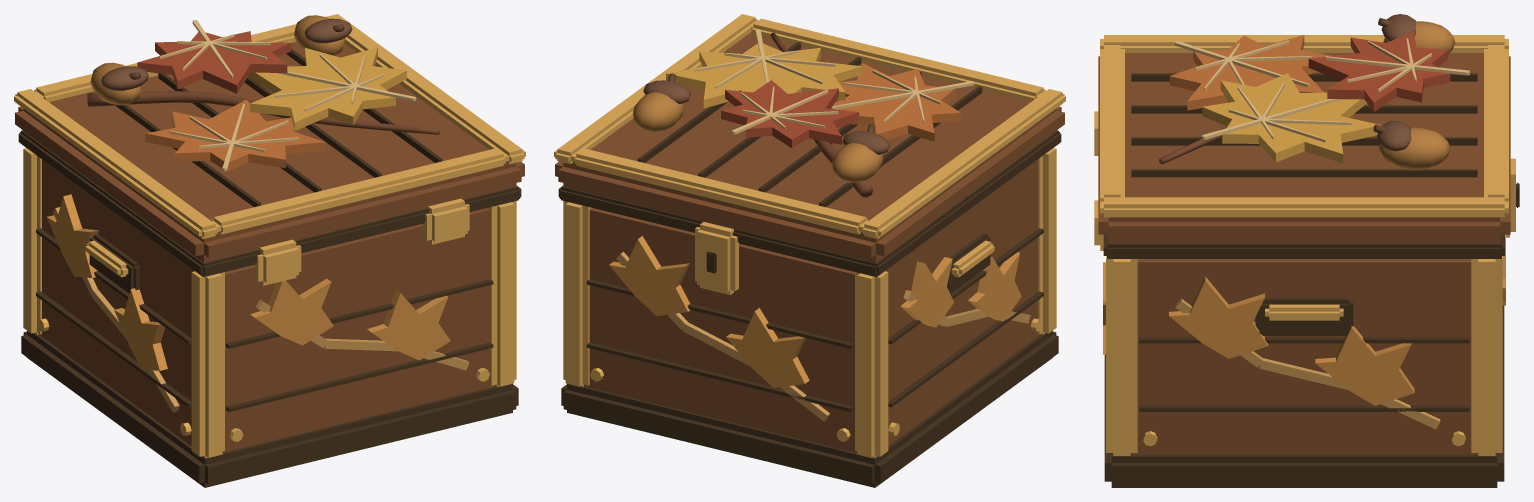
Rendered from crate_outono.fbx.
The picture shows the model from 3 angles, left to right: view 1: azimuth 30°, elevation 25°; view 2: azimuth 150°, elevation 25°; view 3: azimuth 270°, elevation 25°; orthographic projection. The views are drawn at different scales.
Visible parts, largest first — view 1: crate_outono_caixa; view 2: crate_outono_caixa; view 3: crate_outono_caixa.
Boxes of the visible parts, <box> form: crate_outono_caixa: <box>14,14,525,487</box>; crate_outono_caixa: <box>554,14,1065,487</box>; crate_outono_caixa: <box>1094,14,1519,487</box>.
Bounding box in the file's own units: 2.68 × 2.36 × 2.7.
1 material, 1 textured.
